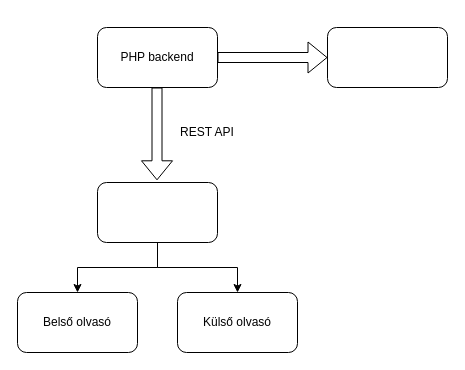
The diagram is 465 pixels wide and 370 high, and some of its shapes have lost their labels. Each missing label, with the centre of its shape:
hardwareLayer.php: the point at 157,212
Mobile app és Webes frontend: the point at 387,57
